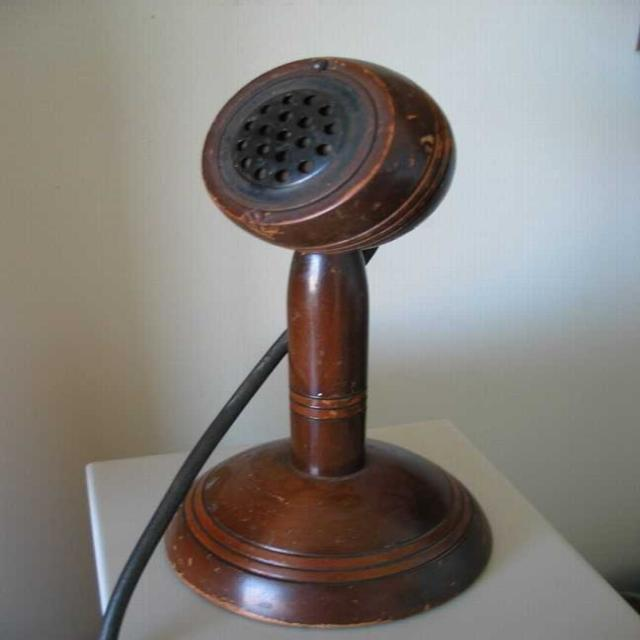microphone: (190, 53, 500, 297)
